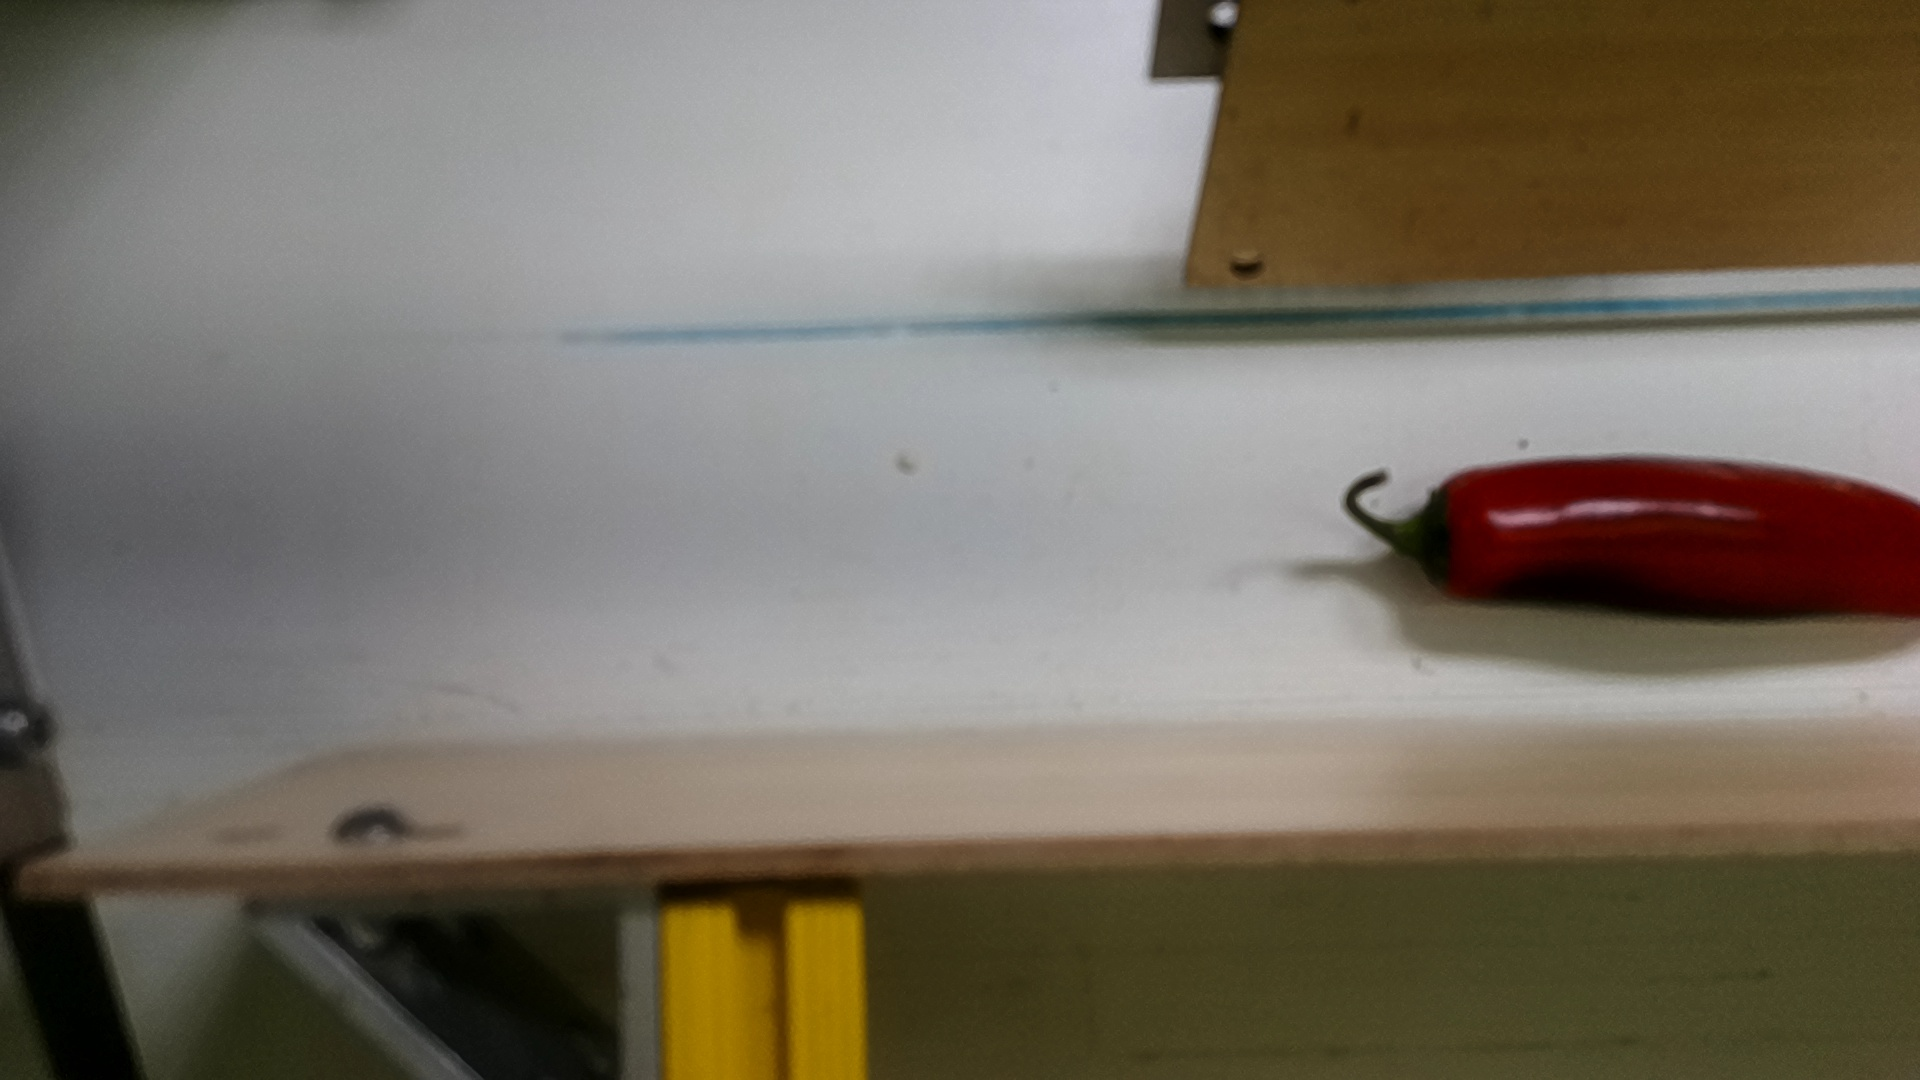Cut Point: (1404, 462, 1494, 608)
